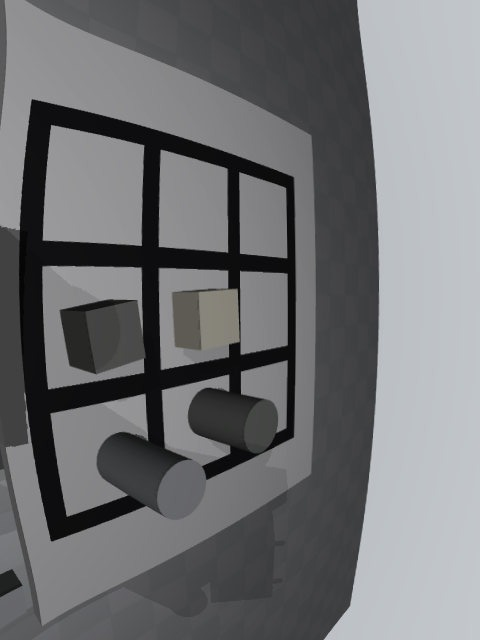can: (97, 432, 206, 520)
cube: (60, 300, 146, 374)
cylinder: (188, 388, 278, 454)
foam: (172, 289, 240, 350)
